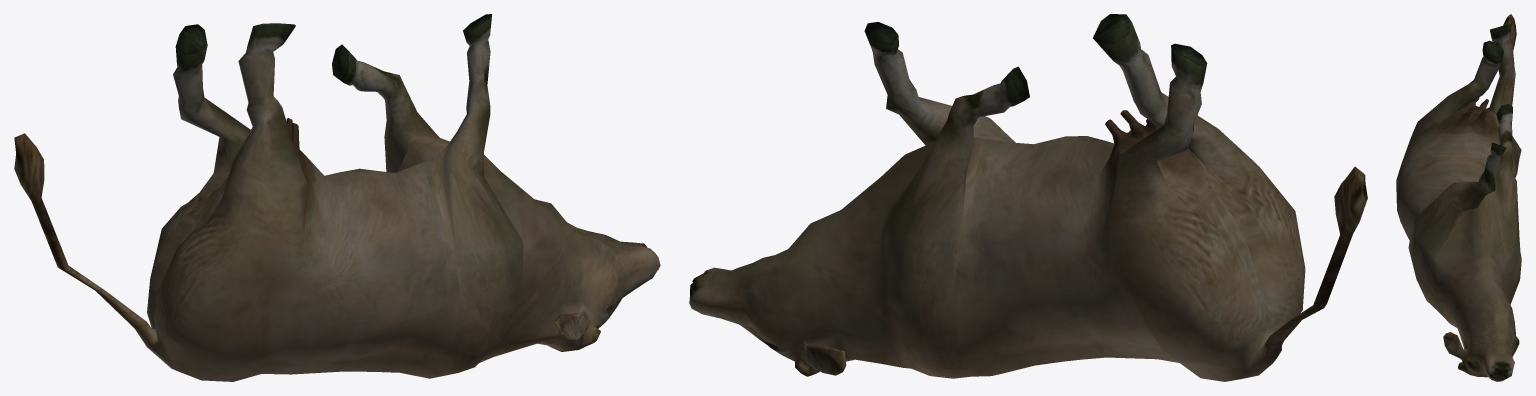
The model's file is cow_dead_3.glb.
3 views of the same model, side by side, from view 1: azimuth 30°, elevation 25°; view 2: azimuth 150°, elevation 25°; view 3: azimuth 270°, elevation 25° (orthographic). The views are drawn at different scales.
Size of the model in its own units: 118 by 71 by 32.68.
1 material, 1 textured.
